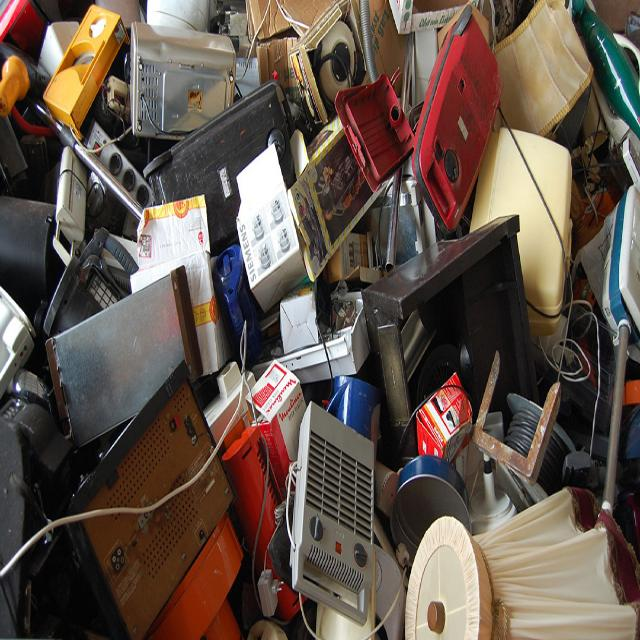hazard: (0, 0, 635, 640)
